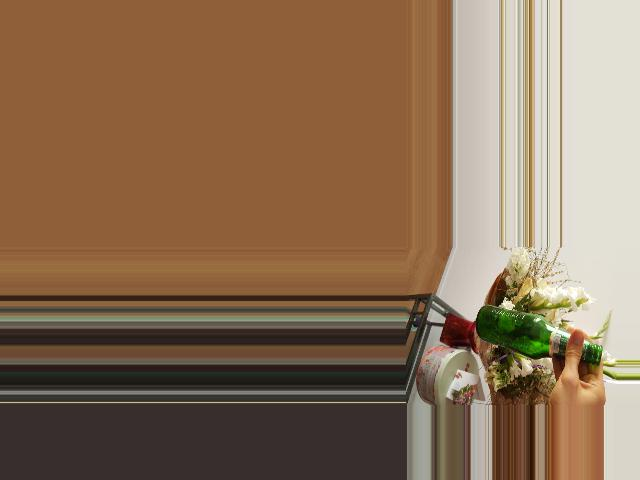beer: (475, 305, 602, 360)
